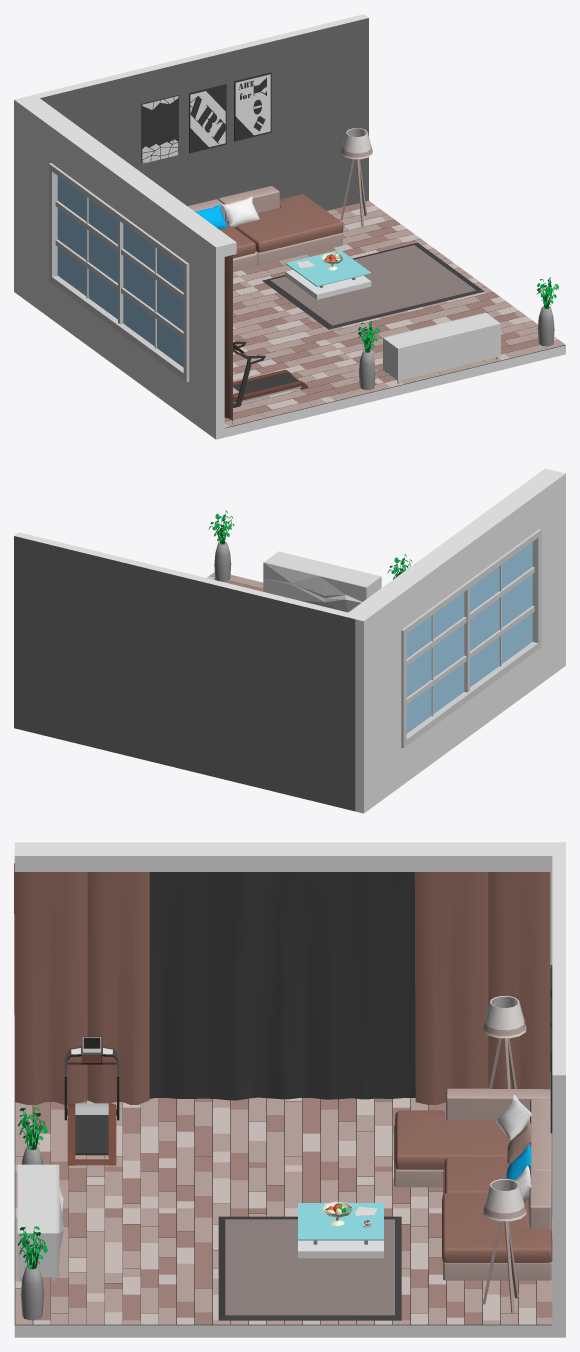
The model's file is room_1.glb.
The picture shows the model from 3 angles, top to bottom: view 1: azimuth 30°, elevation 25°; view 2: azimuth 150°, elevation 25°; view 3: azimuth 270°, elevation 25°; orthographic projection. The views are drawn at different scales.
Parts seen in each view (by area): view 1: Walls_046.014, window_018.007, floor_018.007, carpet_001.007, floor_018.005, Walls_006.133, Walls_006.132, sofa_028.004, Walls_006.135, Walls_011.017, shelf_059.001, Walls_006.134 (+13 smaller); view 2: Walls_046.014, window_018.007, Walls_006.133, Walls_006.135, Walls_006.132, Walls_006.134, shelf_059.001, Walls_003.051, flowerpot_027.001; view 3: Curtains_028.001, Curtains_031.004, Curtains_031.003, floor_018.007, floor_018.005, sofa_028.004, carpet_001.007, floor_018.008, Walls_003.051, Walls_011.017, floor_018.006, Walls_046.014 (+11 smaller).
Boxes of the visible parts, x1,y1,x2,y2 form: Walls_046.014: (23, 14, 368, 210); window_018.007: (49, 163, 189, 381); floor_018.007: (224, 315, 390, 427); carpet_001.007: (262, 242, 484, 329); floor_018.005: (292, 272, 565, 387); Walls_006.133: (14, 97, 60, 319); Walls_006.132: (188, 225, 224, 439); sofa_028.004: (187, 186, 343, 272); Walls_006.135: (52, 125, 196, 262); Walls_011.017: (224, 205, 565, 437); shelf_059.001: (383, 312, 500, 383); Walls_006.134: (52, 284, 188, 418); Walls_046.014: (14, 532, 359, 811); window_018.007: (401, 529, 541, 748); Walls_006.133: (355, 591, 401, 813); Walls_006.135: (393, 491, 538, 628); Walls_006.132: (530, 471, 565, 685); Walls_006.134: (402, 650, 538, 785); shelf_059.001: (263, 551, 381, 612); Walls_003.051: (348, 468, 556, 615); flowerpot_027.001: (214, 541, 231, 581); Curtains_028.001: (149, 872, 415, 1100); Curtains_031.004: (14, 863, 149, 1104); Curtains_031.003: (414, 872, 550, 1104); floor_018.007: (15, 1097, 284, 1208); floor_018.005: (15, 1208, 284, 1324); sofa_028.004: (394, 1088, 552, 1280); carpet_001.007: (218, 1216, 401, 1320); floor_018.008: (285, 1098, 445, 1208); Walls_003.051: (14, 848, 552, 871); Walls_011.017: (14, 1098, 552, 1337); floor_018.006: (285, 1208, 552, 1324); Walls_046.014: (552, 848, 565, 1337).
Size of the model in its own units: 8.06 by 4.2 by 8.01.
1 material, 1 textured.
